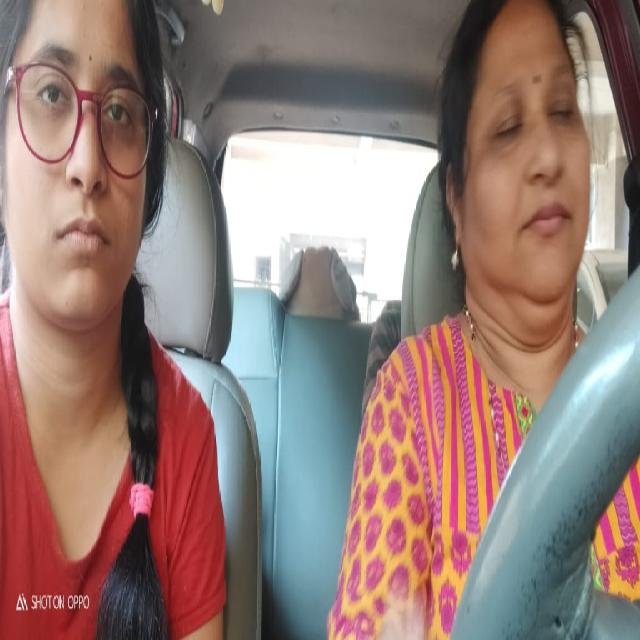drowsy: (439, 0, 601, 328)
person: (0, 0, 170, 383)
